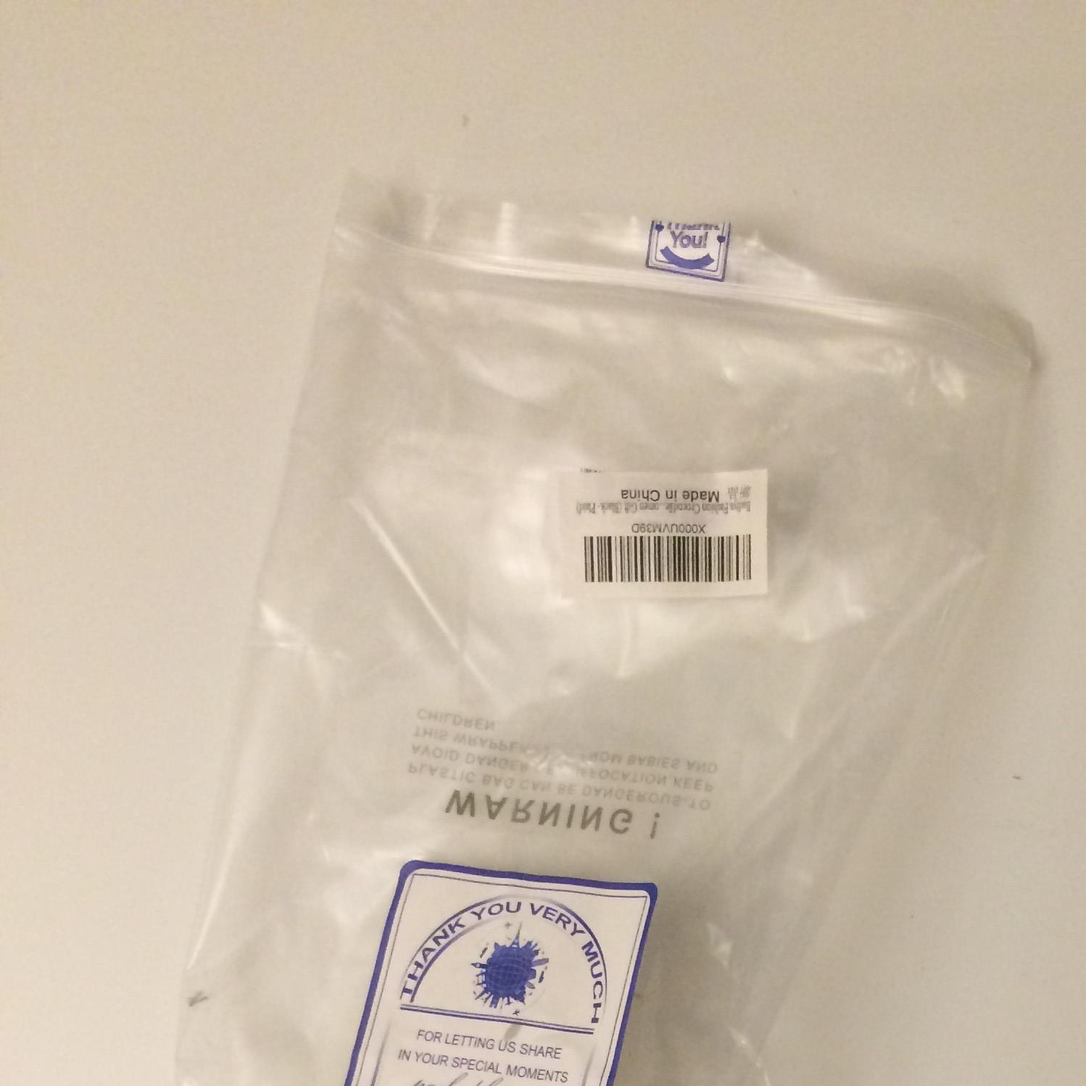Plastic: (152, 151, 1051, 1086)
